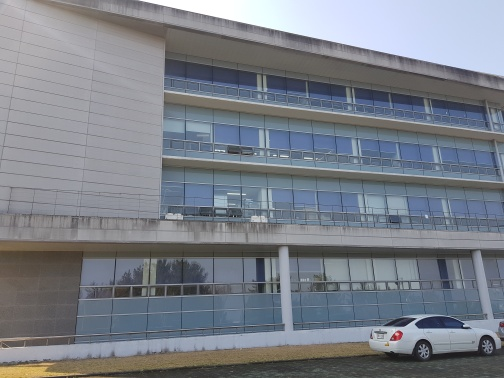Engineering College Building 4: (11, 10, 504, 339), (62, 38, 492, 308)
